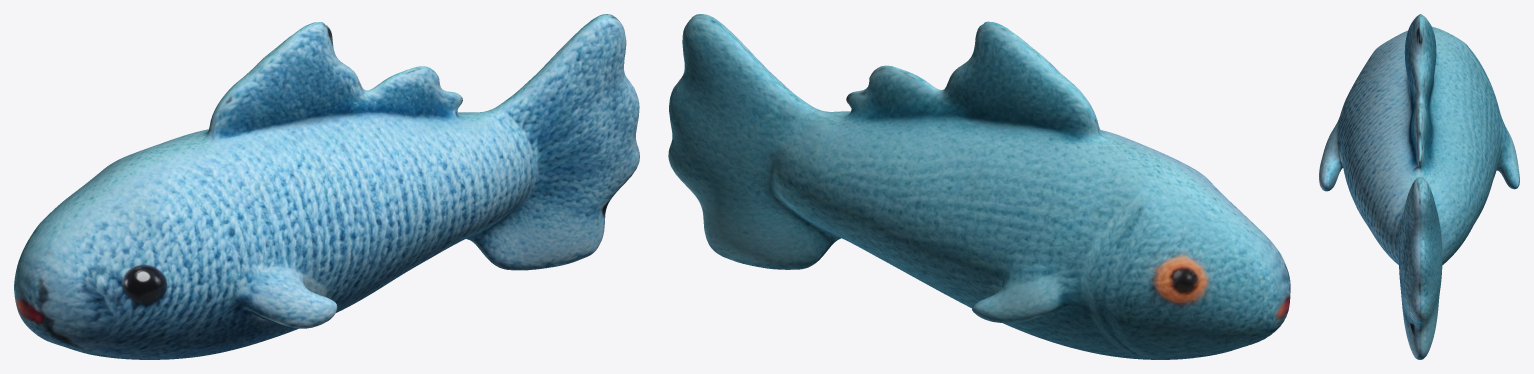
Rendered from Toy2.fbx.
3 views of the same model, side by side, from view 1: azimuth 30°, elevation 25°; view 2: azimuth 150°, elevation 25°; view 3: azimuth 270°, elevation 25° (orthographic). The views are drawn at different scales.
Visible parts, largest first — view 1: fish_1; view 2: fish_1; view 3: fish_1.
Part boxes in pixels (x1,y1,x2,y2): fish_1: (14,14,639,359); fish_1: (668,14,1290,359); fish_1: (1319,14,1519,359).
Bounding box in the file's own units: 200 × 93.49 × 71.1.
1 material, 1 textured.
